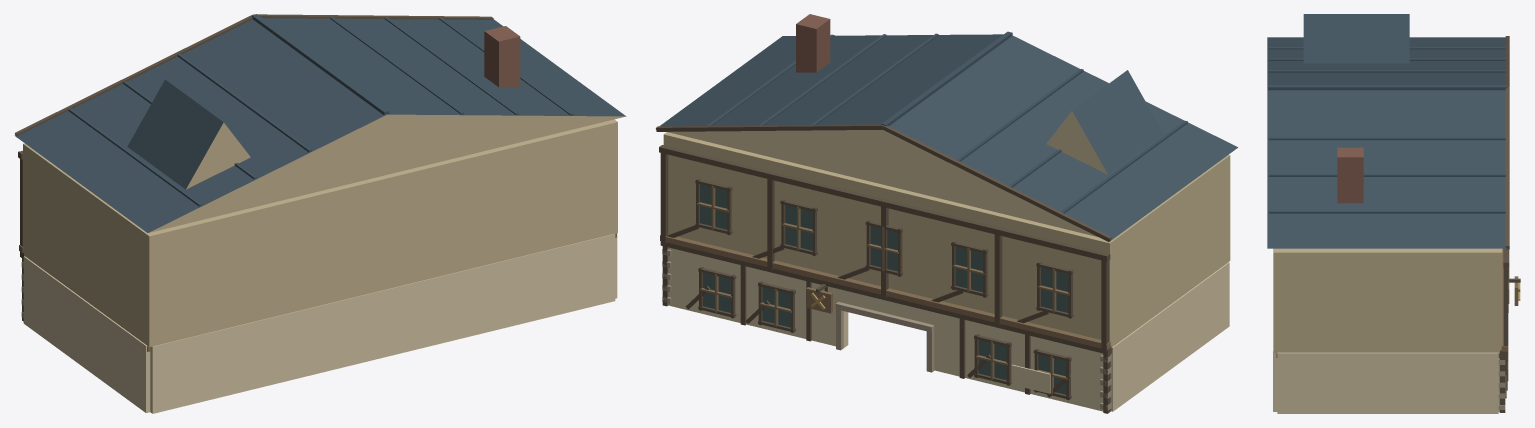
The model's file is WalkTown_Guild_Cover.fbx.
3 views of the same model, side by side, from view 1: azimuth 30°, elevation 25°; view 2: azimuth 150°, elevation 25°; view 3: azimuth 270°, elevation 25° (orthographic). The views are drawn at different scales.
Visible parts, largest first — view 1: WalkTown_Guild_Cover; view 2: WalkTown_Guild_Cover; view 3: WalkTown_Guild_Cover.
Part boxes in pixels (x1,y1,x2,y2): WalkTown_Guild_Cover: (14,14,626,413); WalkTown_Guild_Cover: (656,14,1237,413); WalkTown_Guild_Cover: (1267,14,1520,413).
Bounding box in the file's own units: 16.04 × 8.26 × 8.13.
